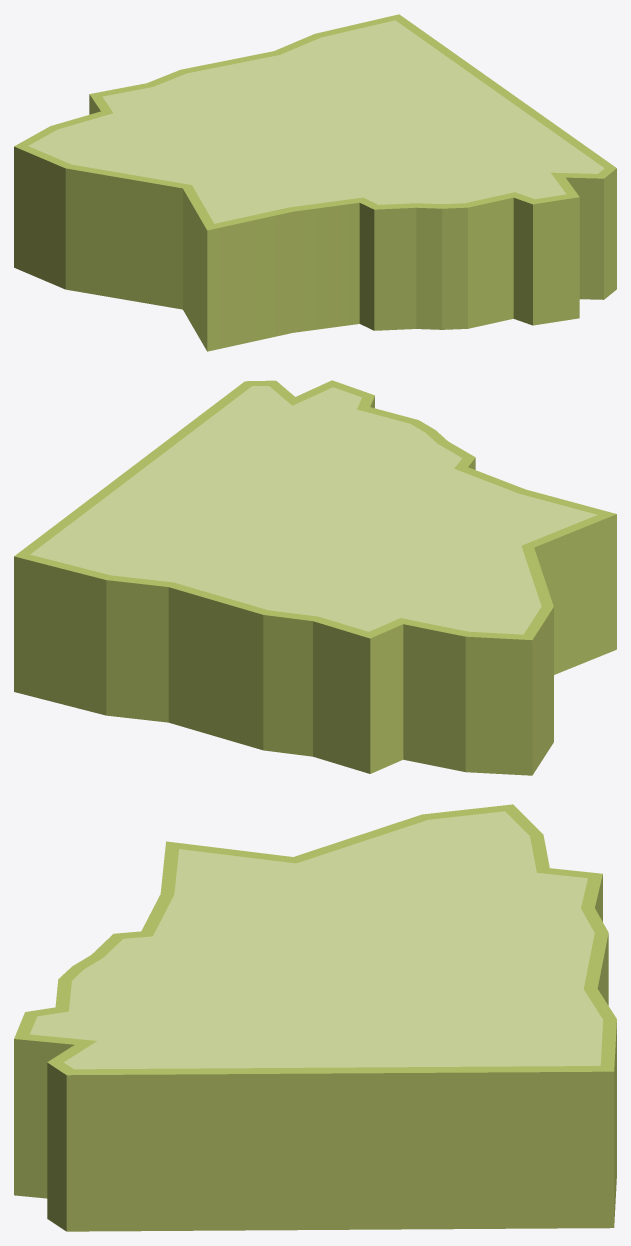
The model's file is Islands3.002.fbx.
The picture shows the model from 3 angles, top to bottom: view 1: azimuth 30°, elevation 25°; view 2: azimuth 150°, elevation 25°; view 3: azimuth 270°, elevation 25°; orthographic projection. The views are drawn at different scales.
Visible parts, largest first — view 1: Island3.002; view 2: Island3.002; view 3: Island3.002.
Boxes of the visible parts, x1,y1,x2,y2 form: Island3.002: (14, 14, 616, 351); Island3.002: (14, 380, 616, 775); Island3.002: (14, 804, 616, 1231).
Bounding box in the file's own units: 92.81 × 25 × 87.33.
